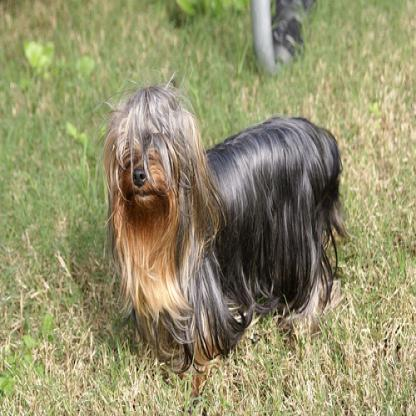dog: (101, 81, 348, 380)
